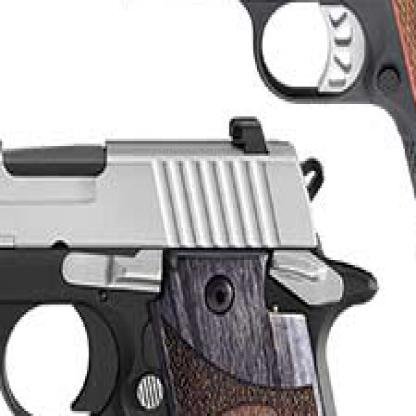gun: (28, 0, 414, 391), (0, 97, 390, 414)
